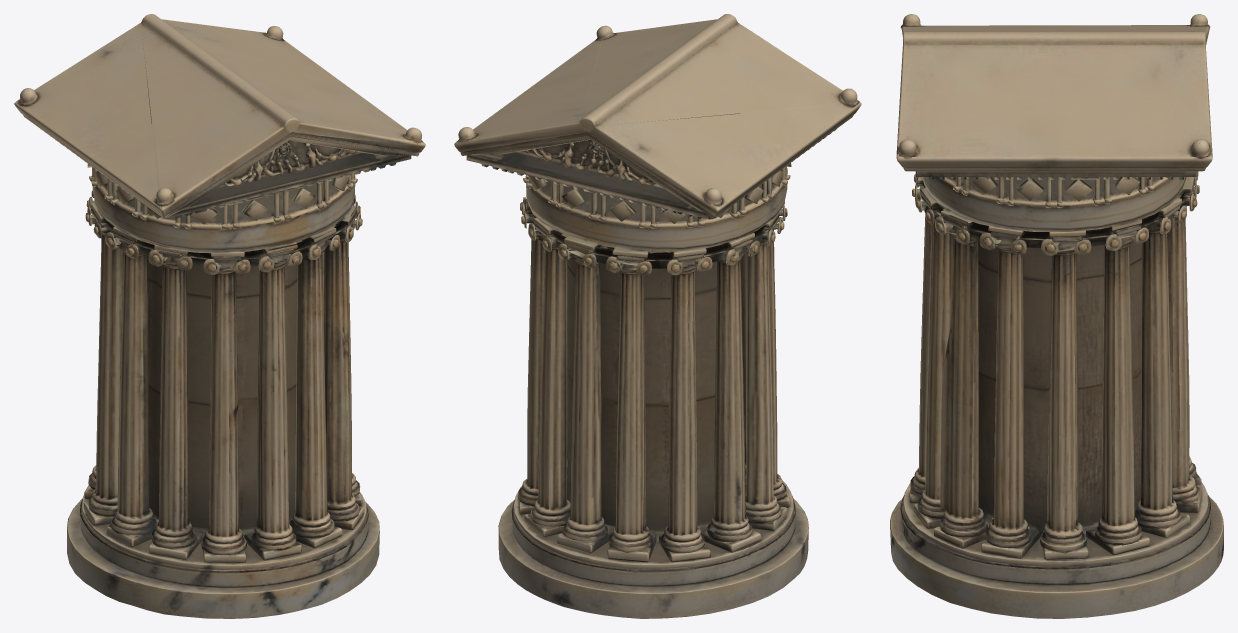
The model's file is tripo_convert_1a0ae71f-f9c8-4350-9a11-14486166312d.fbx.
3 renders of one model, left to right at view 1: azimuth 30°, elevation 25°; view 2: azimuth 150°, elevation 25°; view 3: azimuth 270°, elevation 25°, orthographic. The views are drawn at different scales.
Visible parts, largest first — view 1: tripo_node_1a0ae71f; view 2: tripo_node_1a0ae71f; view 3: tripo_node_1a0ae71f.
Part boxes in pixels (left/top/right/bottom): tripo_node_1a0ae71f: left=14, top=14, right=425, bottom=618; tripo_node_1a0ae71f: left=454, top=14, right=861, bottom=618; tripo_node_1a0ae71f: left=890, top=14, right=1223, bottom=618.
Bounding box in the file's own units: 57.96 × 58.45 × 99.95.
1 material, 1 textured.
